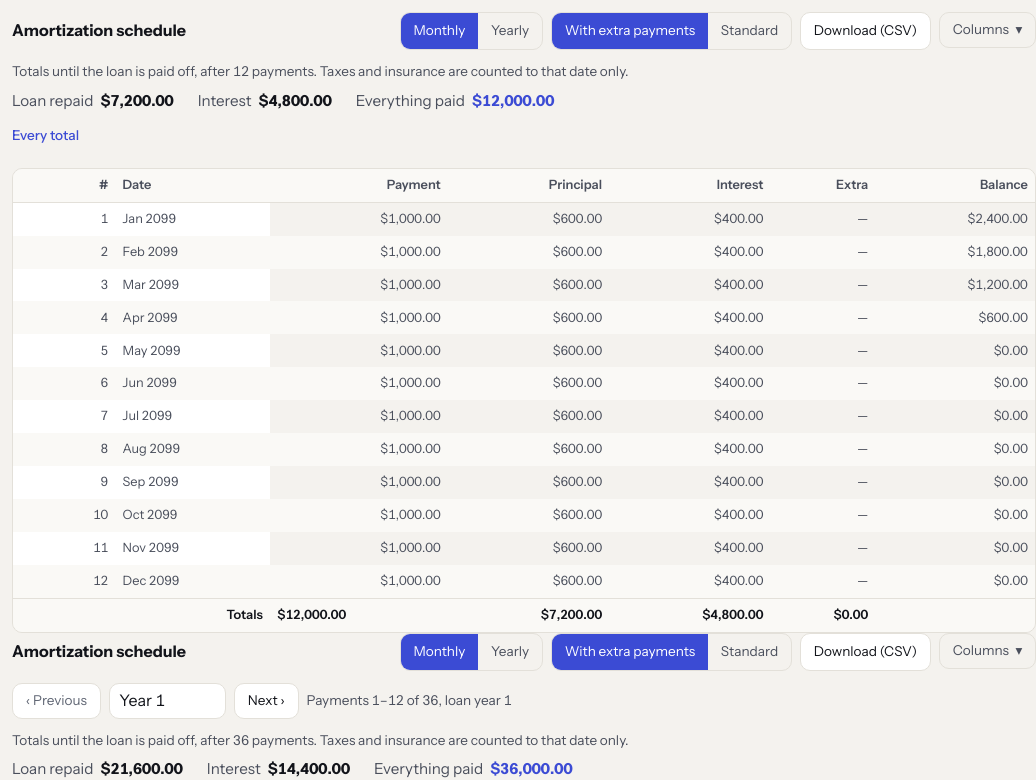
Test: ScheduleTableComponent › choosing columns › paging by loan year › has no pager for a single year, or on the yearly rows
Expected: the element with test id "pager" is shown, [12,683,512,719]
Click the 2nd button with test id "view-yearly" at (510,652), box [478,634,542,670]
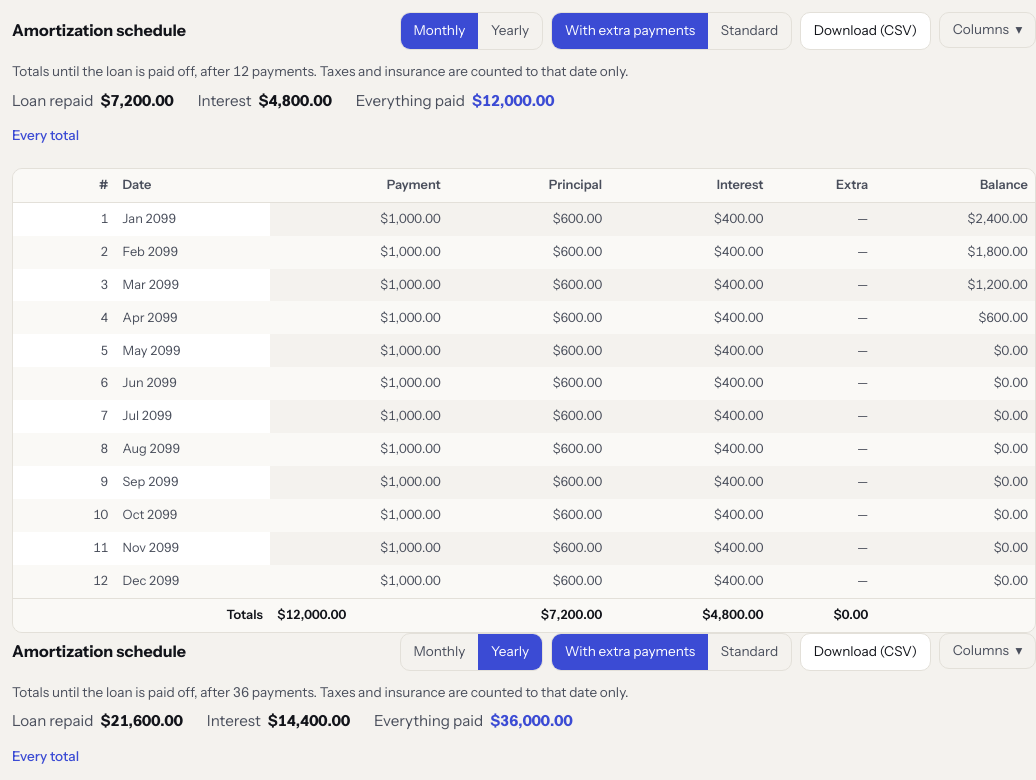
Now the element with test id "pager" is gone
